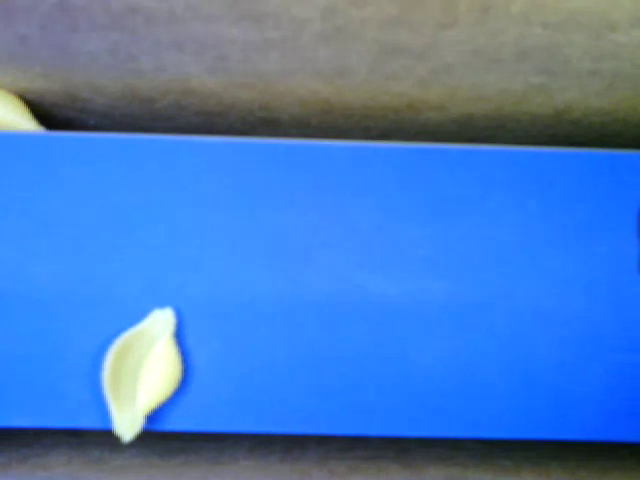shell: (100, 297, 185, 445), (2, 90, 53, 134)
